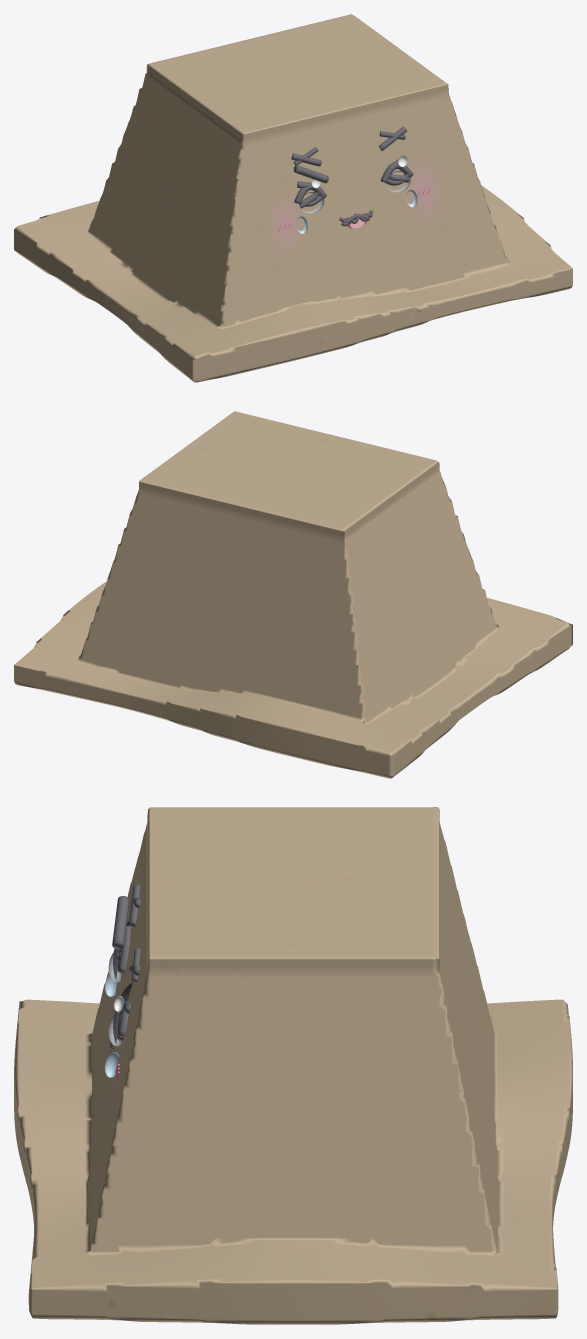
File: n_cardboard_slime.glb
3 views of the same model, one above another, from view 1: azimuth 30°, elevation 25°; view 2: azimuth 150°, elevation 25°; view 3: azimuth 270°, elevation 25° (orthographic). The views are drawn at different scales.
Parts seen in each view (by area): view 1: BodyMesh, face_eyes_happy; view 2: BodyMesh; view 3: BodyMesh, face_eyes_normal, face_brow_smug.
Boxes of the visible parts, x1,y1,x2,y2 form: BodyMesh: (14, 14, 572, 382); face_eyes_happy: (294, 162, 413, 204); BodyMesh: (14, 411, 572, 778); BodyMesh: (14, 807, 572, 1324); face_eyes_normal: (108, 921, 132, 1049); face_brow_smug: (112, 896, 129, 949).
Size of the model in its own units: 2.72 by 1.31 by 2.22.
